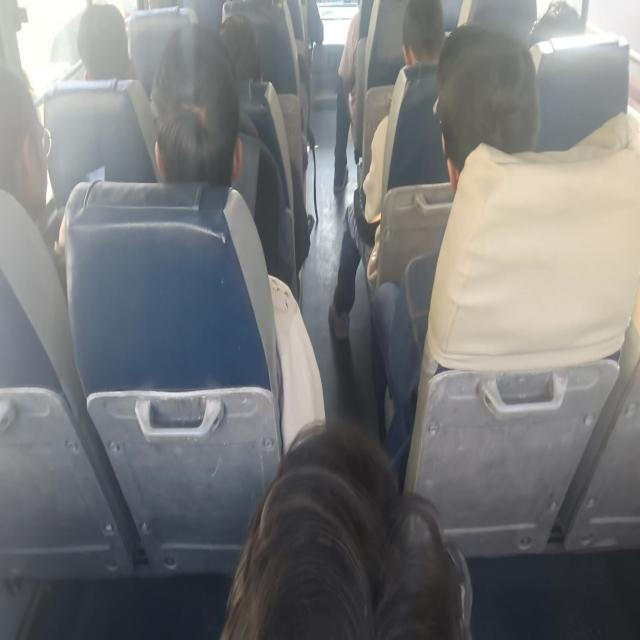person: (370, 22, 540, 485), (149, 26, 326, 453), (220, 416, 472, 638), (328, 0, 447, 342), (0, 63, 67, 289), (149, 26, 243, 186), (332, 1, 362, 195), (76, 3, 136, 80), (218, 13, 261, 82)
